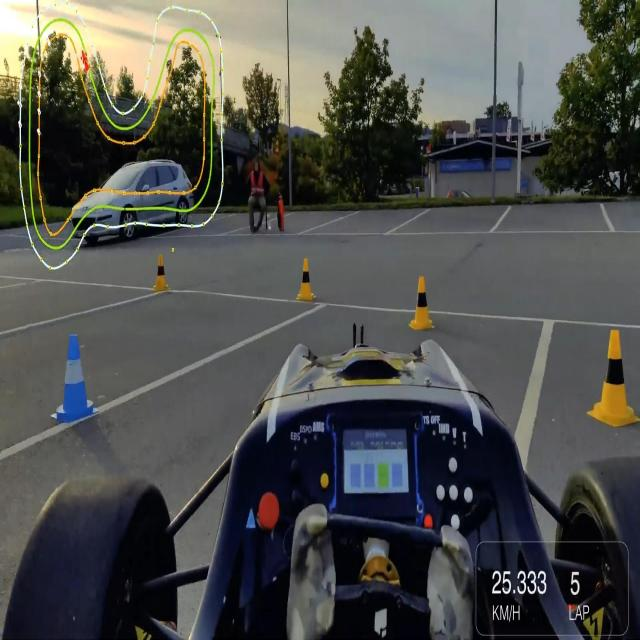blue_cone: (54, 332, 98, 425)
yellow_cone: (586, 318, 640, 435), (410, 270, 436, 332), (298, 255, 316, 305), (151, 249, 169, 293)
